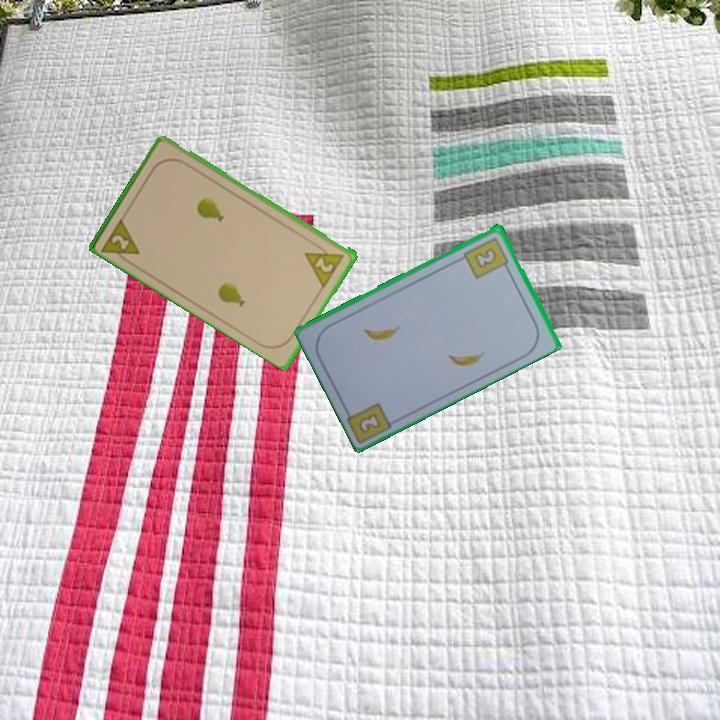2b: (460, 233, 512, 281), (355, 409, 384, 436)
2p: (301, 239, 348, 289), (108, 231, 133, 253)
